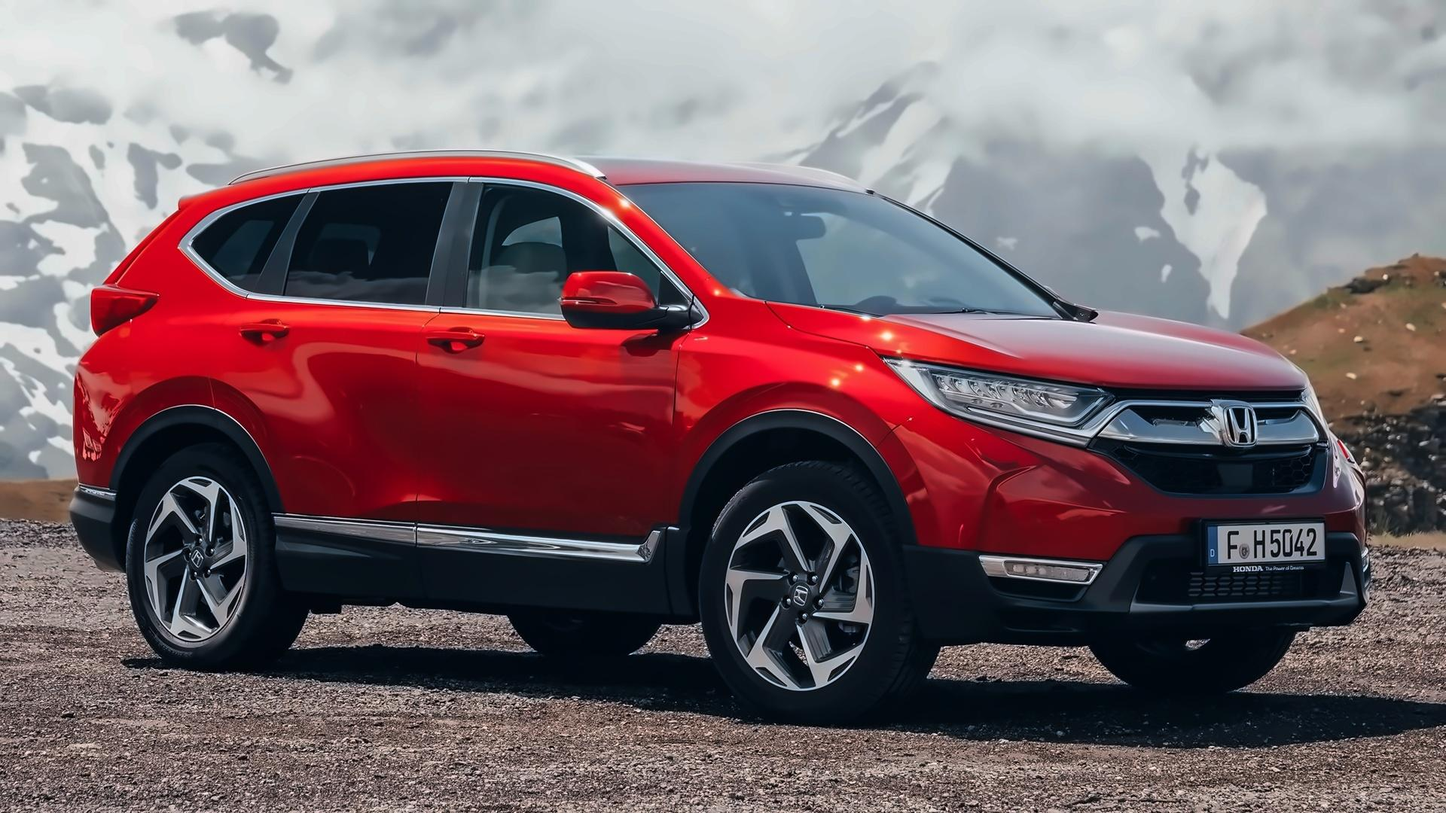Car hood: (756, 294, 1318, 408)
Driver-s door - -F-R-: (402, 146, 685, 590)
Fender - -F-R-: (687, 370, 896, 509)
Fender - -R-R-: (99, 359, 253, 482)
Front bumper: (871, 402, 1367, 656)
Headlight - -R-: (876, 351, 1116, 449)
Passenger-s door - -R-R-: (229, 154, 416, 591)
Rear bumper: (63, 320, 218, 581)
Rear light - -R-: (85, 282, 162, 343)
Side bumper - -R-: (262, 497, 704, 628)
Side mirror - -R-: (561, 269, 666, 336)
